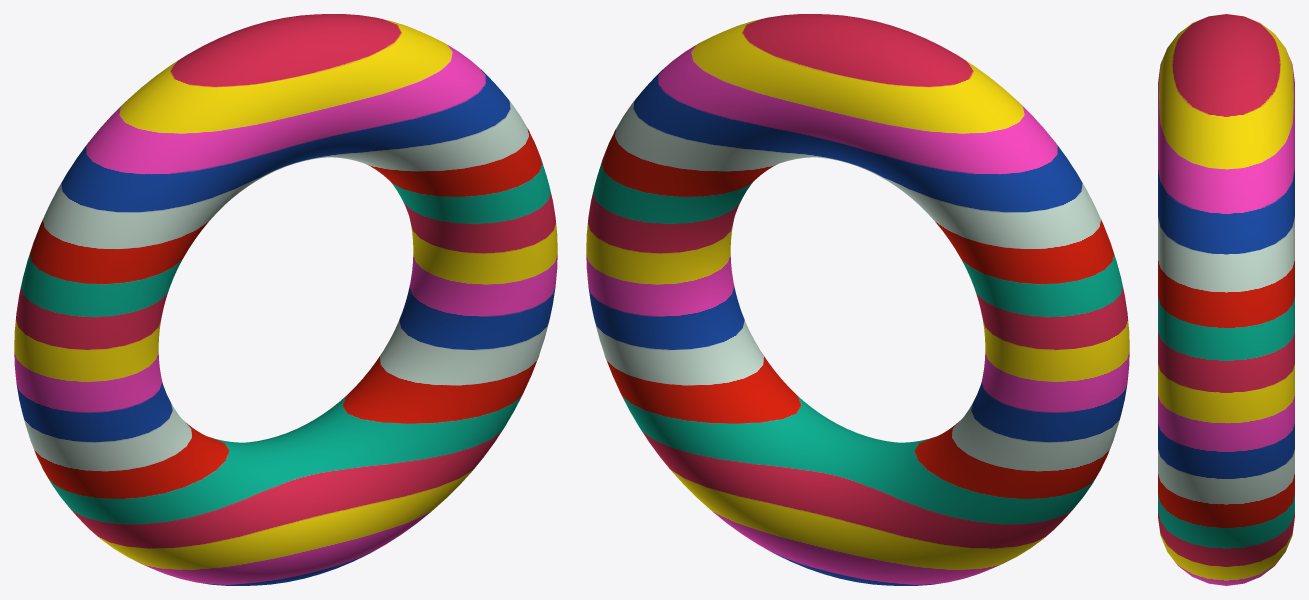
Rendered from A-4_Onstick.fbx.
3 renders of one model, left to right at view 1: azimuth 30°, elevation 25°; view 2: azimuth 150°, elevation 25°; view 3: azimuth 270°, elevation 25°, orthographic. The views are drawn at different scales.
Parts seen in each view (by area): view 1: A-4; view 2: A-4; view 3: A-4.
Part boxes in pixels (left/top/right/bottom): A-4: left=14, top=14, right=557, bottom=585; A-4: left=586, top=14, right=1129, bottom=585; A-4: left=1158, top=14, right=1294, bottom=585.
Size of the model in its own units: 98.7 by 23.6 by 98.7.
